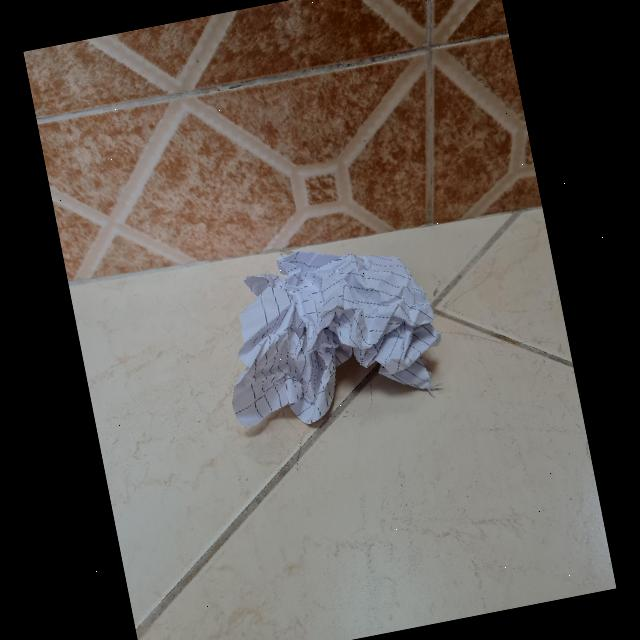trash: (214, 235, 441, 437)
